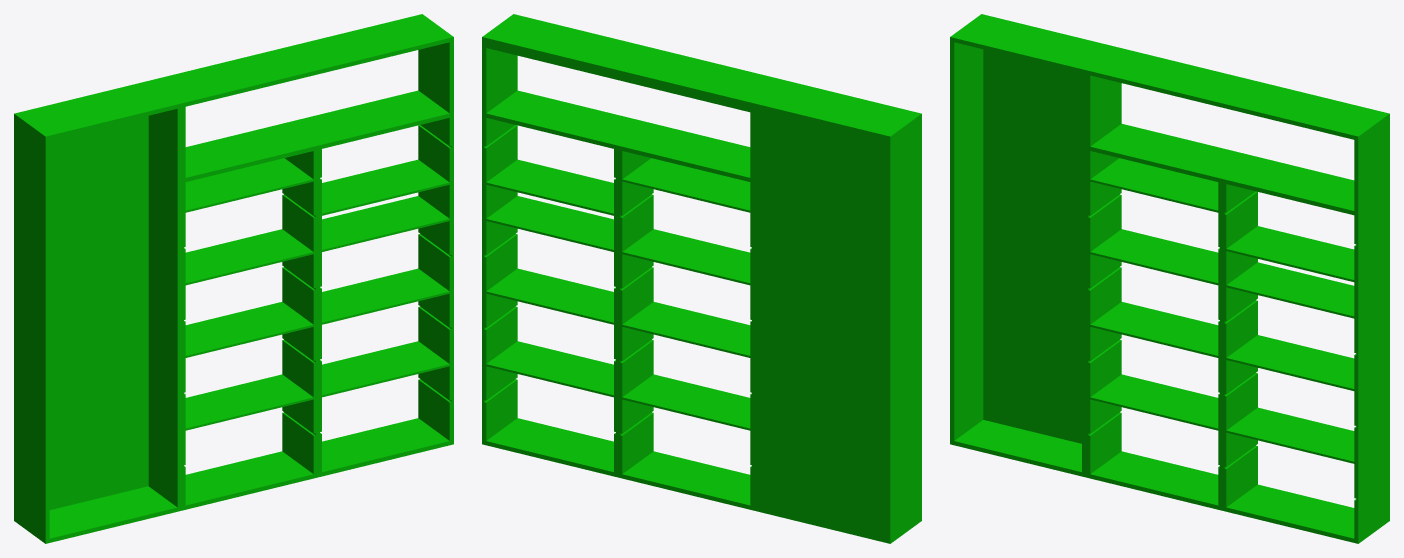
3 renders of one model, left to right at view 1: azimuth 30°, elevation 25°; view 2: azimuth 150°, elevation 25°; view 3: azimuth 330°, elevation 25°, orthographic.
Parts seen in each view (by area): view 1: 116527, 116526, 116790, 116798, 116800, 116792, 116794, 116796; view 2: 116527, 116526, 116790, 116798, 116800, 116792, 116794, 116796; view 3: 116526, 116527, 116790, 116796, 116798, 116800, 116792, 116794.
Part boxes in pixels (x1,y1,x2,y2): 116527: (14,80,181,543); 116526: (150,14,453,510); 116790: (184,158,453,285); 116798: (184,374,315,430); 116800: (184,302,315,358); 116792: (320,196,451,252); 116794: (320,268,451,325); 116796: (320,341,451,397); 116527: (754,80,921,543); 116526: (482,14,785,510); 116790: (482,158,751,285); 116798: (620,374,751,430); 116800: (620,302,751,358); 116792: (484,196,615,252); 116794: (484,268,615,325); 116796: (484,341,615,397); 116526: (1086,47,1389,543); 116527: (950,14,1117,477); 116790: (1088,158,1356,285); 116796: (1224,407,1356,464); 116798: (1088,374,1219,430); 116800: (1088,302,1219,358); 116792: (1224,262,1356,318); 116794: (1224,335,1356,391).
Size of the model in its own units: 1.5 by 1.43 by 0.2.
